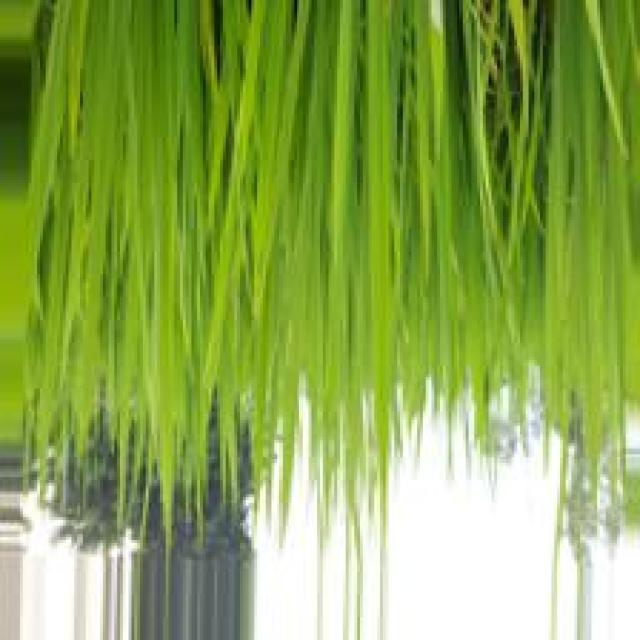HealthyLeaf: (130, 1, 174, 228), (86, 1, 125, 145)
